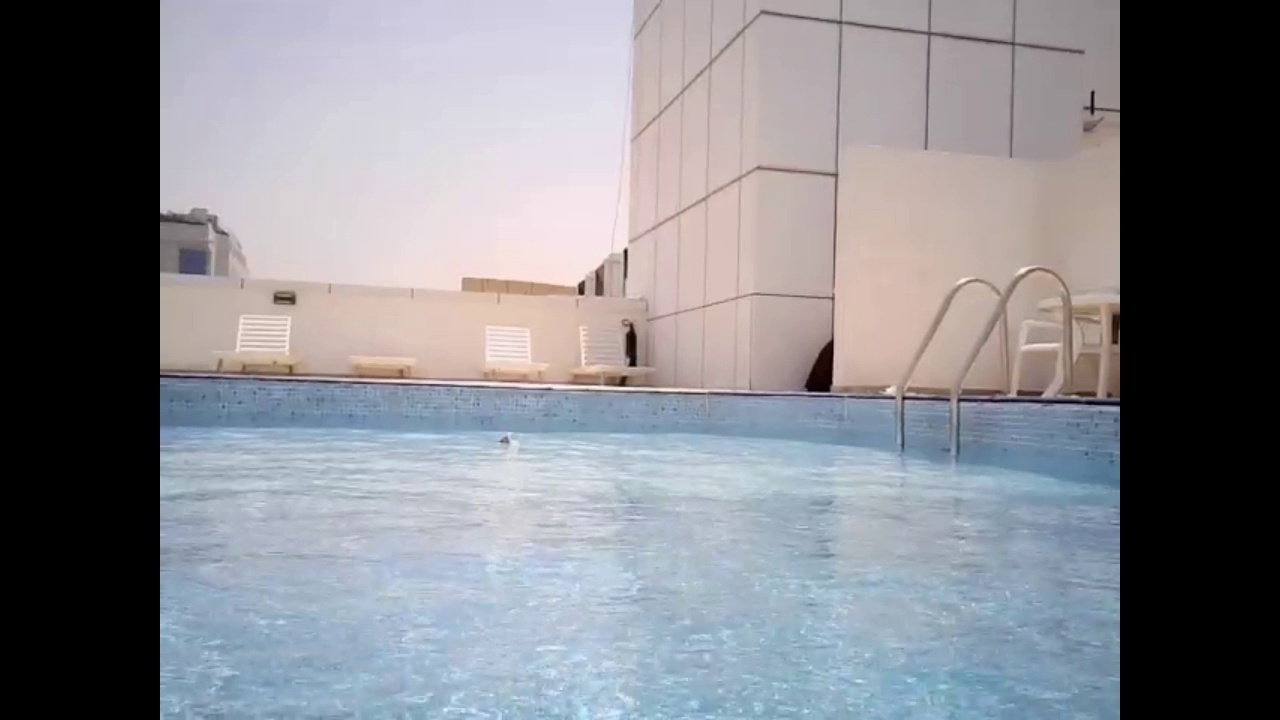debris: (493, 427, 523, 447)
